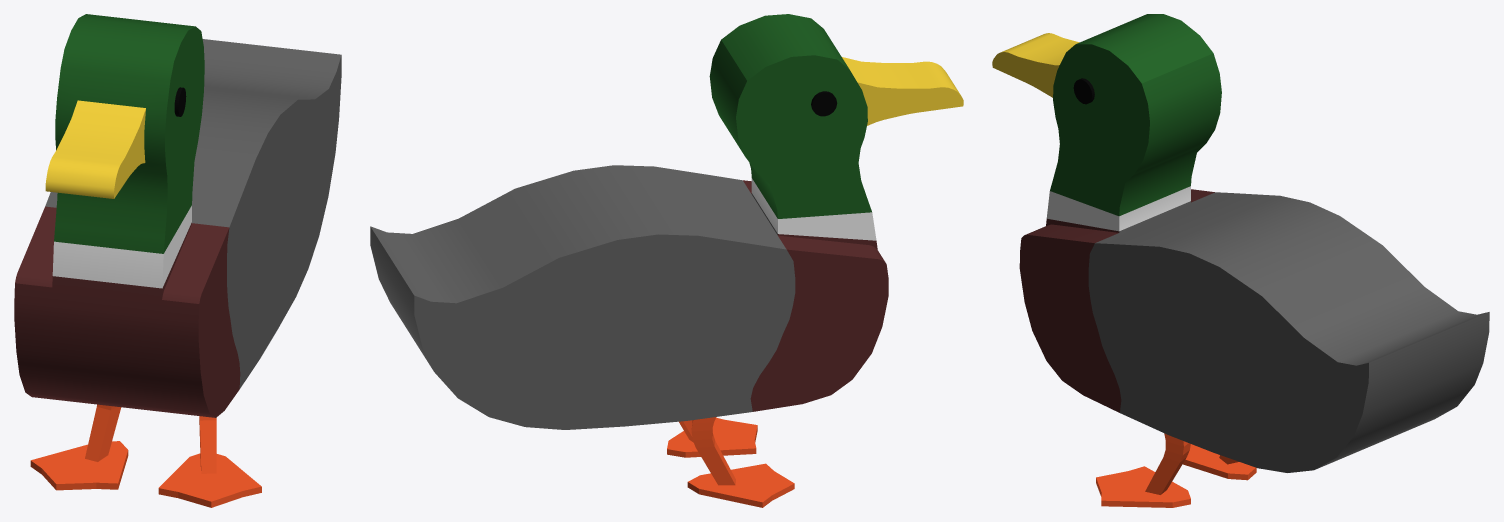
Rendered from duck.glb.
The picture shows the model from 3 angles, left to right: view 1: azimuth 30°, elevation 25°; view 2: azimuth 150°, elevation 25°; view 3: azimuth 270°, elevation 25°; orthographic projection. The views are drawn at different scales.
Parts seen in each view (by area): view 1: Cube.118; view 2: Cube.118; view 3: Cube.118.
Boxes of the visible parts, x1,y1,x2,y2 form: Cube.118: (14,14,341,507); Cube.118: (370,14,963,507); Cube.118: (992,14,1489,507).
Size of the model in its own units: 1.96 by 1.85 by 1.96.
Materials: 1 (1 with a texture image).
